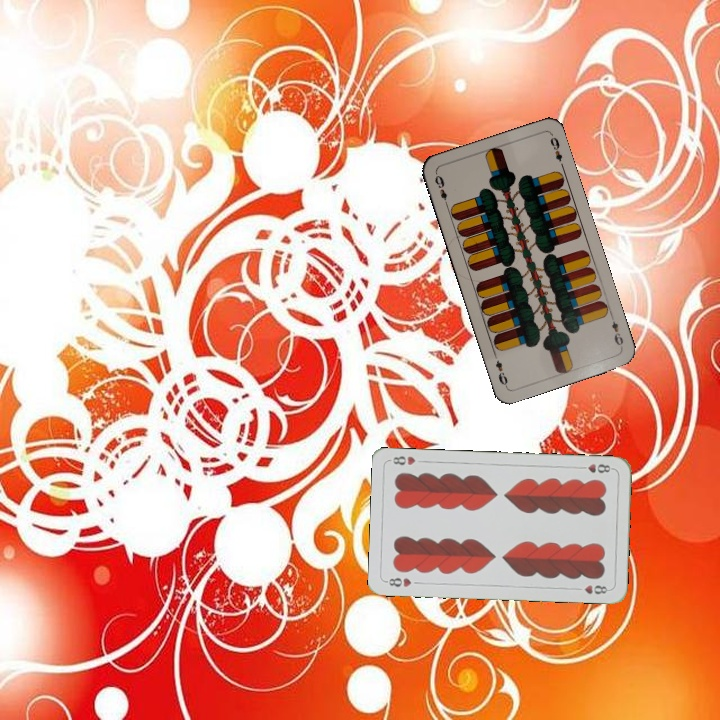E9: (607, 311, 626, 350), (431, 171, 450, 209)
H8: (575, 460, 616, 475), (382, 574, 414, 589)
